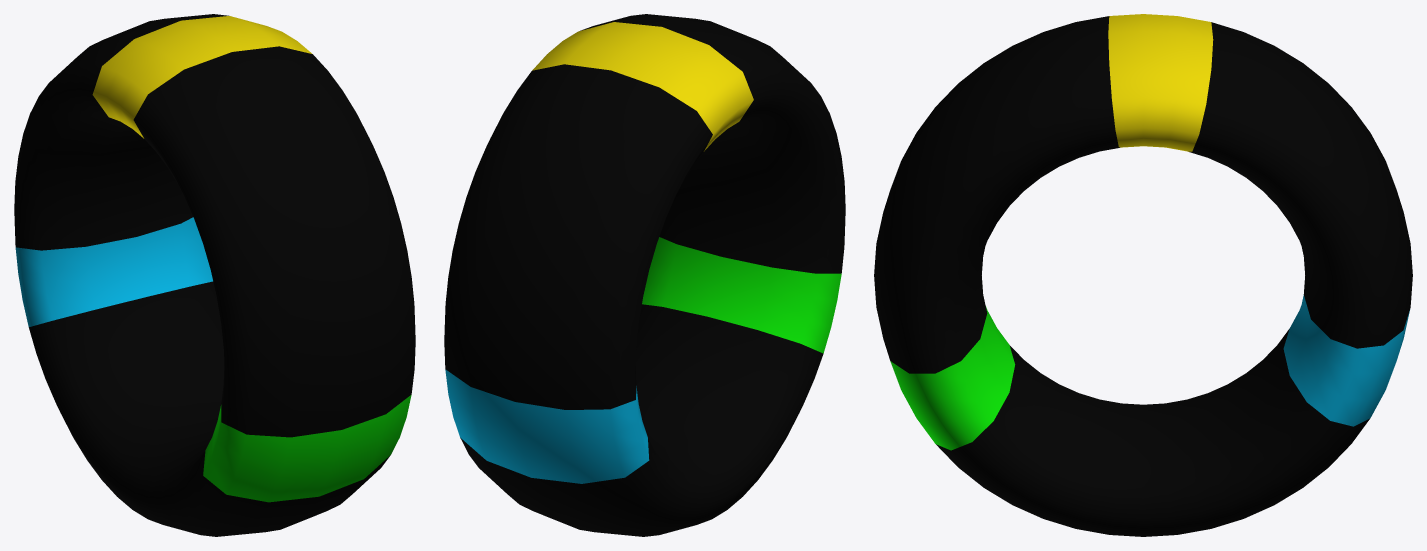
Rendered from Tyre.fbx.
3 views of the same model, side by side, from view 1: azimuth 30°, elevation 25°; view 2: azimuth 150°, elevation 25°; view 3: azimuth 270°, elevation 25° (orthographic). The views are drawn at different scales.
Parts seen in each view (by area): view 1: Torus; view 2: Torus; view 3: Torus.
Boxes of the visible parts, bbox=[...] form: Torus: bbox=[14, 14, 415, 536]; Torus: bbox=[444, 14, 845, 536]; Torus: bbox=[874, 14, 1412, 536].
Size of the model in its own units: 105 by 250 by 250.
